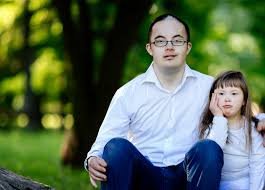without_mask: (153, 24, 184, 66), (216, 86, 241, 114)
